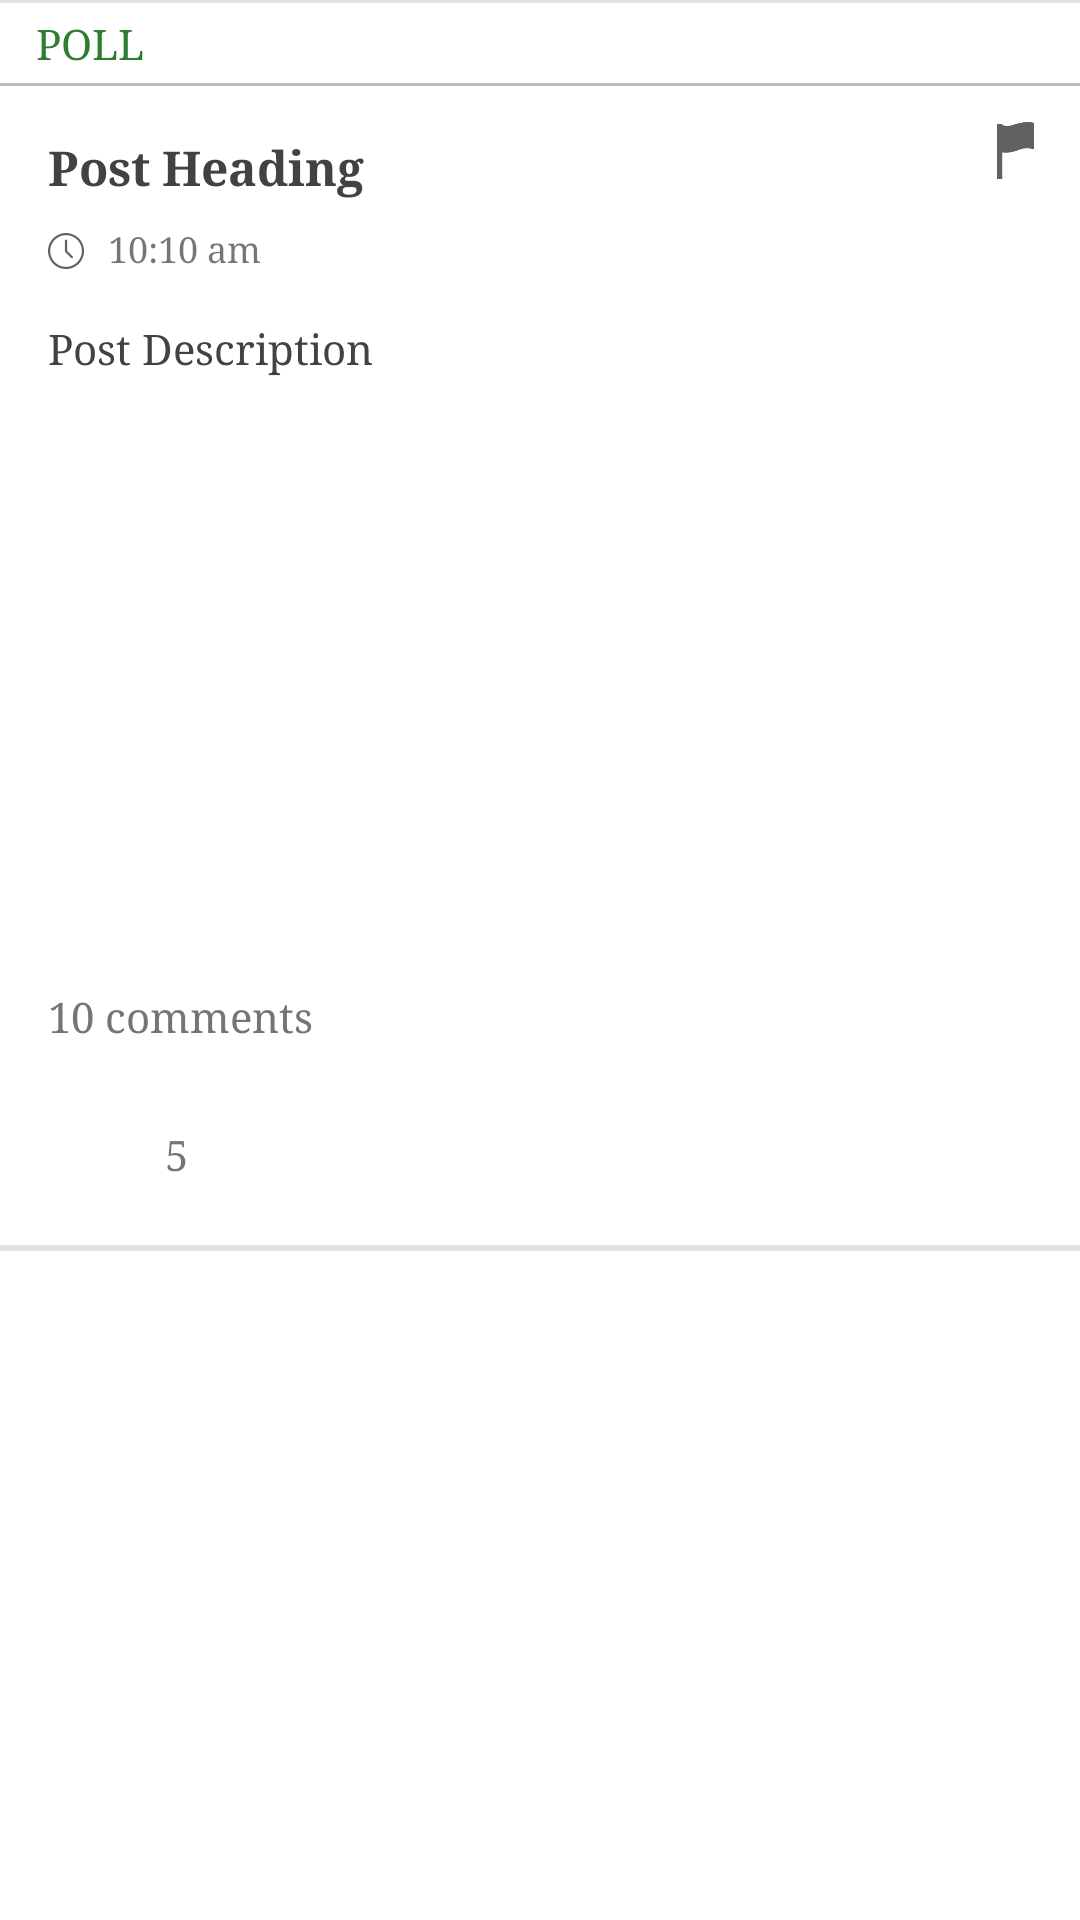

Screen size 1080x1920. Icon name, then its center in pixels as point (x, y):
clock: point (66, 251)
flag: point (1015, 150)
